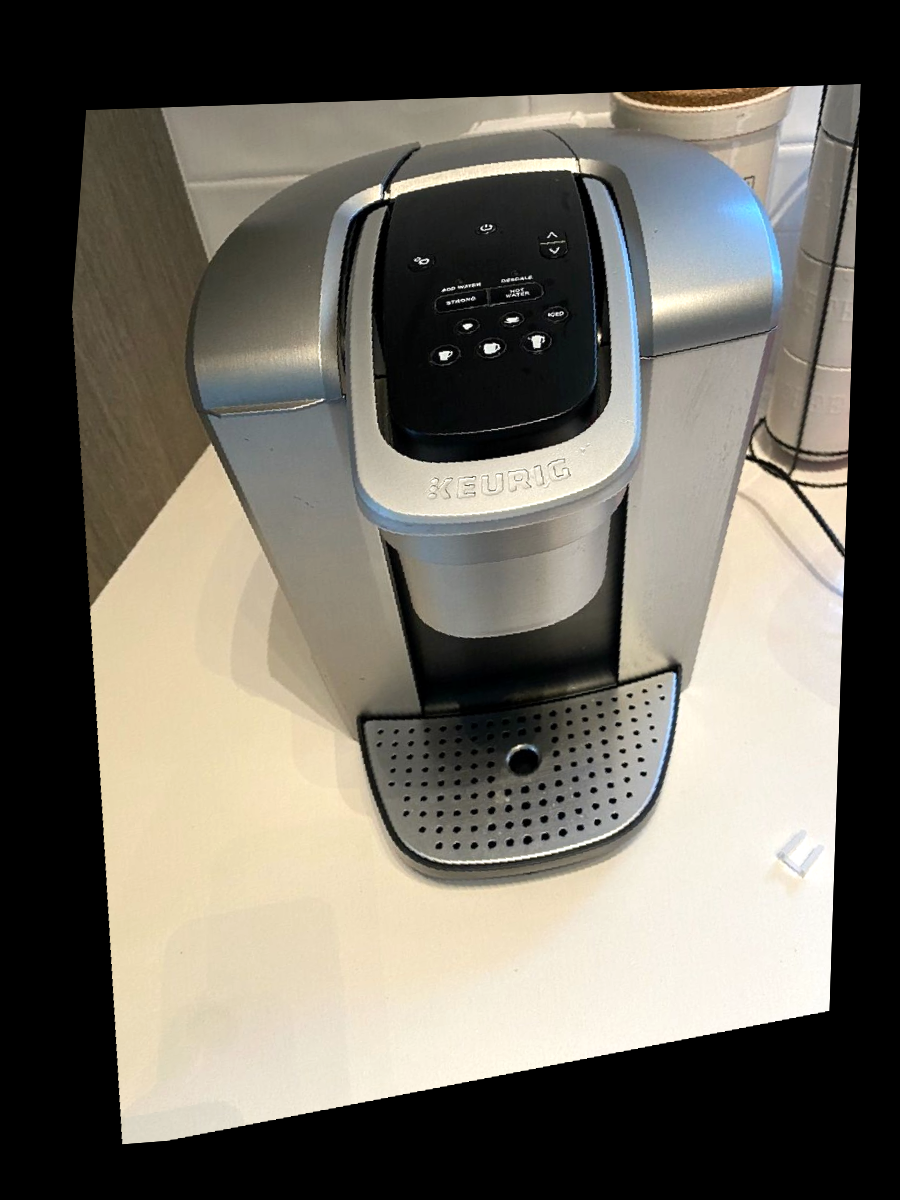10oz: (473, 336, 508, 363)
12oz: (519, 329, 554, 356)
4oz: (454, 317, 482, 335)
6oz: (496, 310, 527, 331)
8oz: (428, 342, 462, 368)
add_water: (427, 267, 486, 297)
descale: (484, 257, 543, 287)
hot: (487, 279, 546, 309)
iced: (539, 304, 570, 325)
power: (476, 220, 499, 236)
strong: (431, 288, 490, 318)
